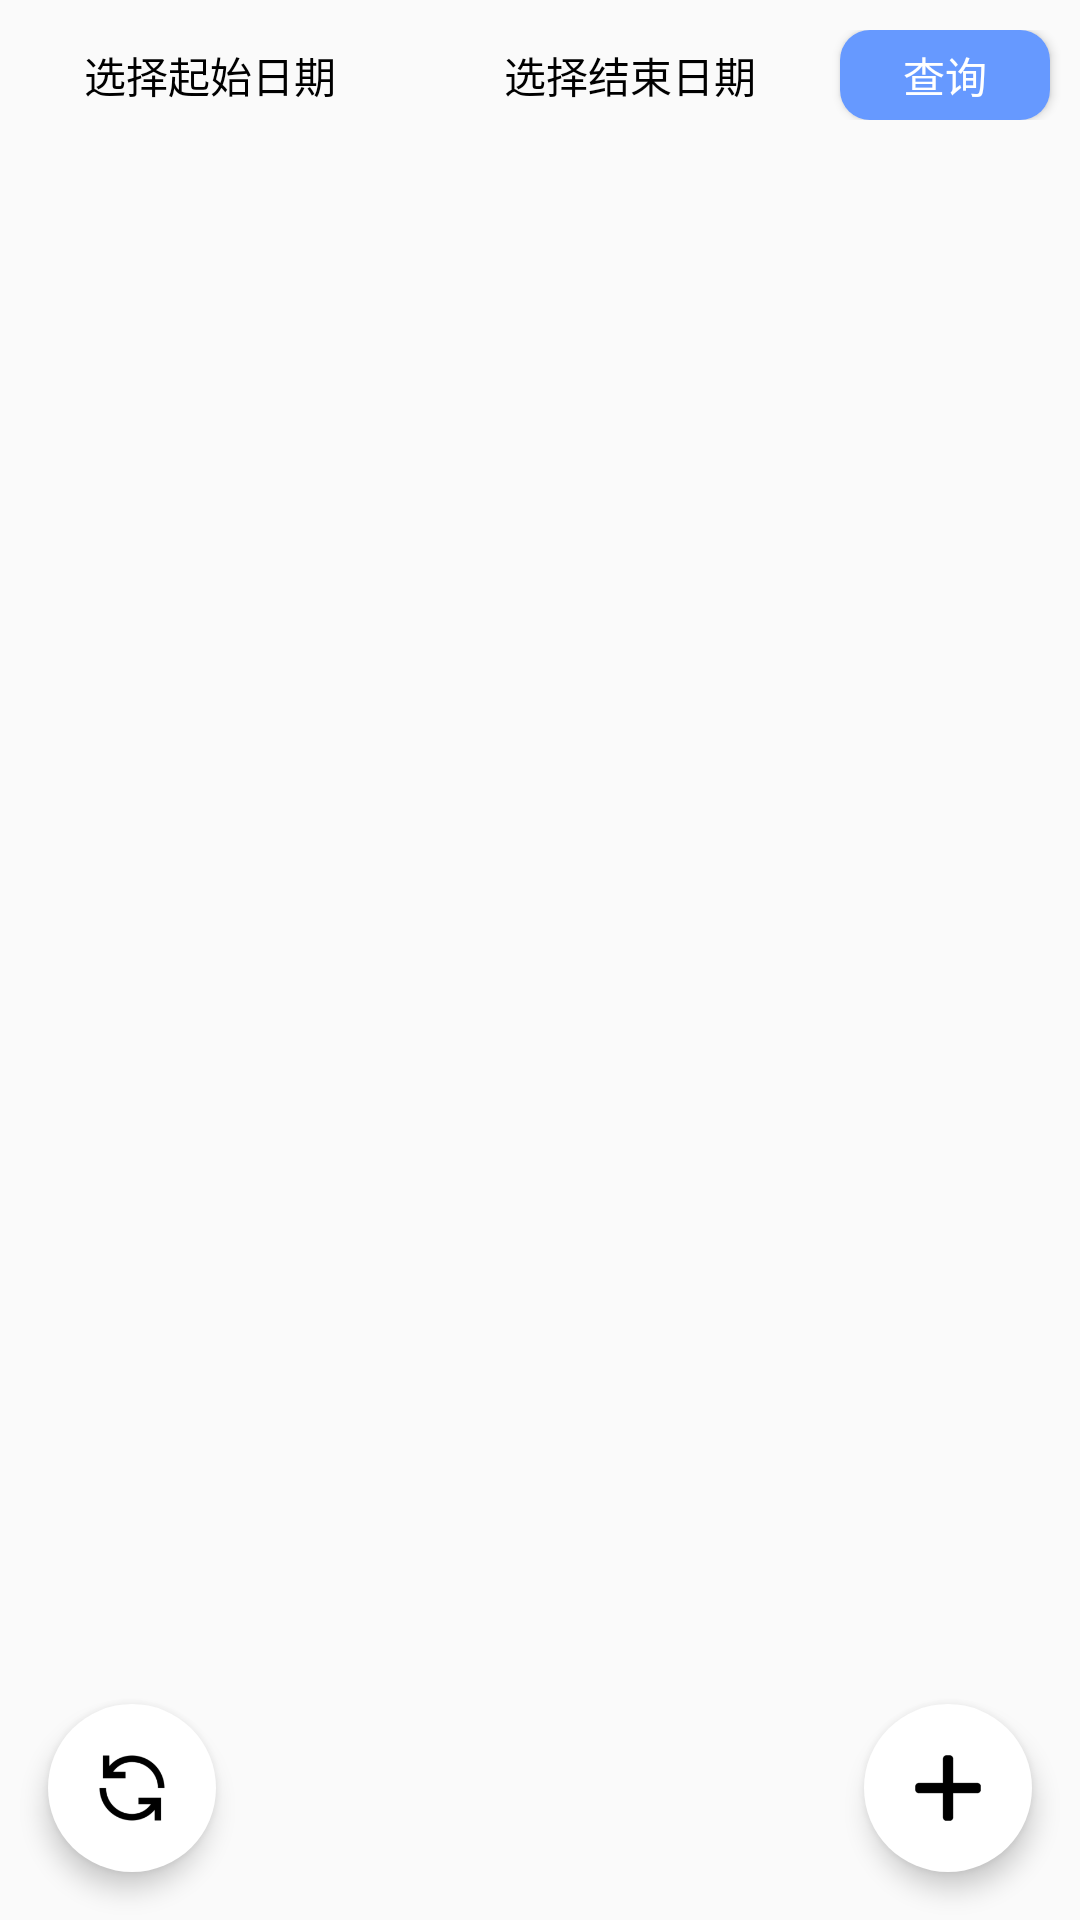

Screen size 1080px×1920px. Icon name, then its center in pixels as point (x, y):
add: point (924, 1788)
refresh: point (155, 1788)
